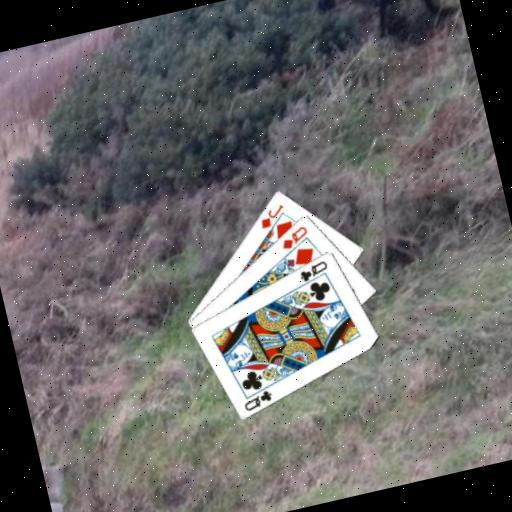JD: (254, 200, 289, 230)
QC: (295, 256, 332, 284), (239, 386, 276, 414)
QD: (276, 222, 312, 252)
